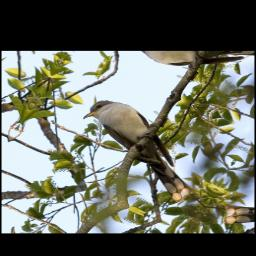Cuckoo: (61, 93, 222, 205)
